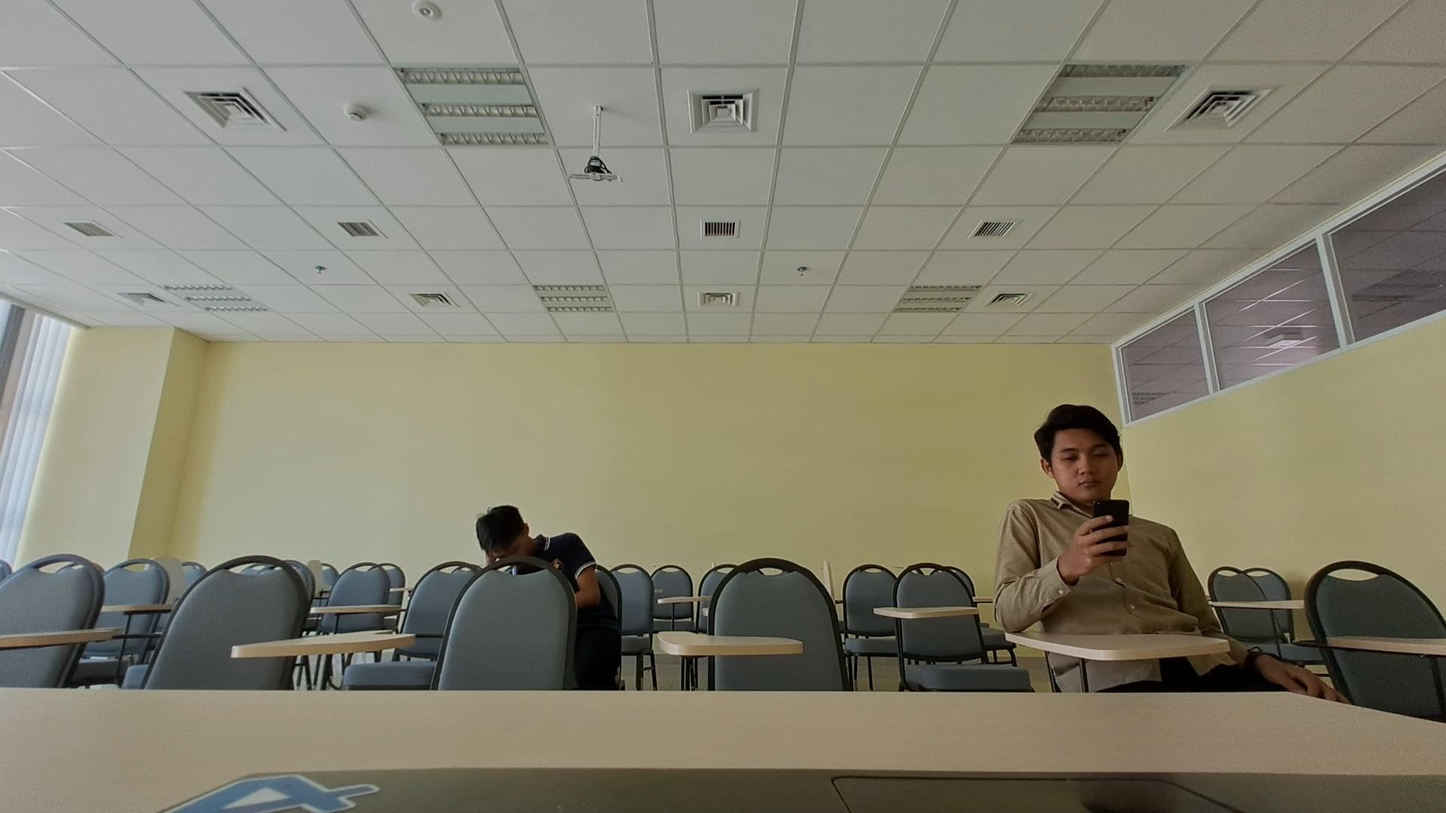phone: (985, 393, 1218, 634)
sleep: (463, 487, 617, 578)
